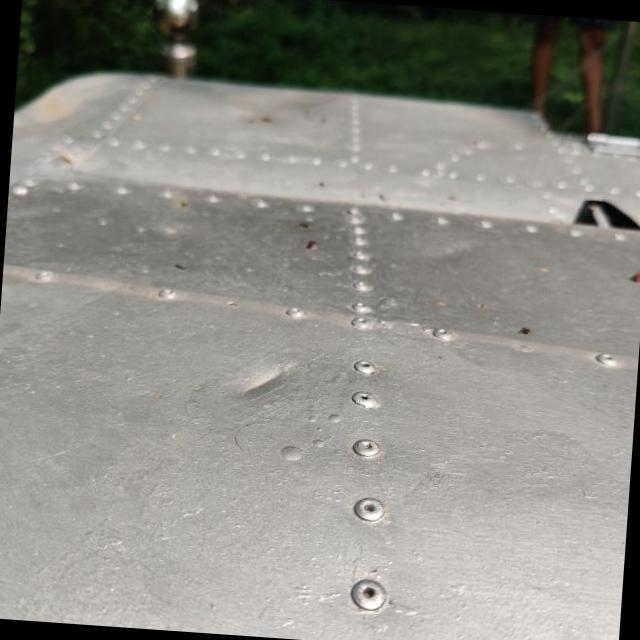Dent: (205, 330, 319, 440)
